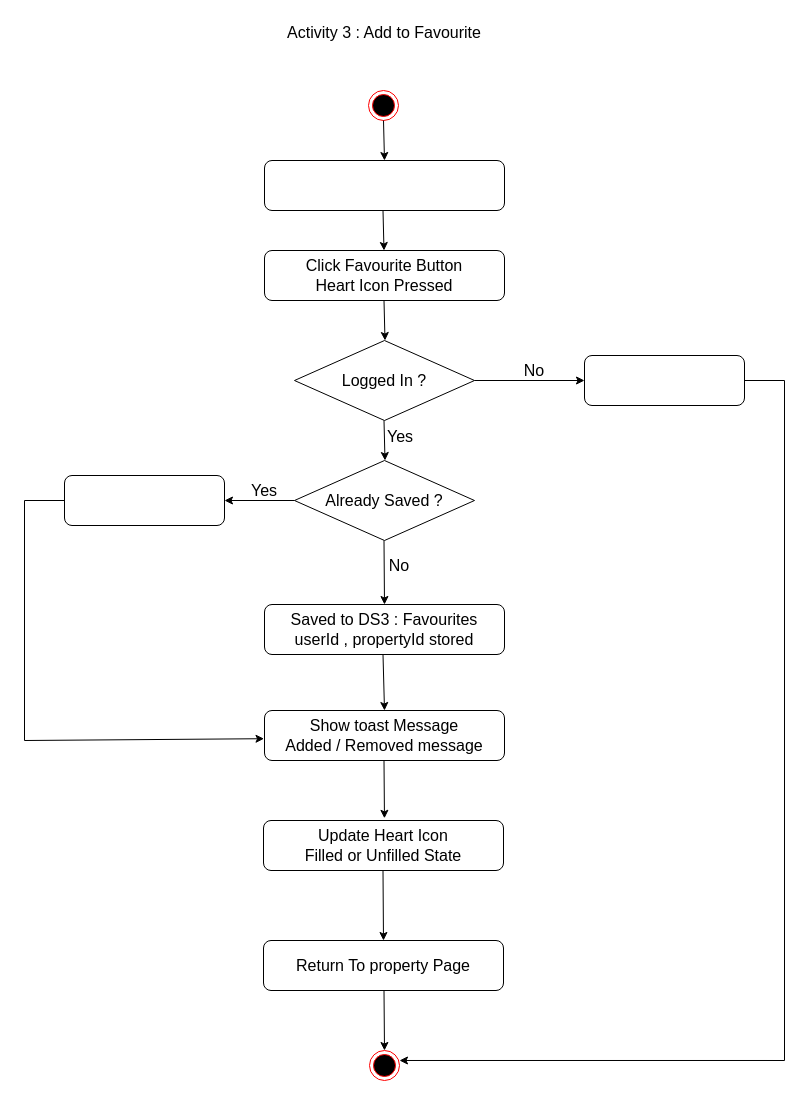
The diagram is 810 pixels wide and 1098 high, and some of its shapes have lost their labels. Here are the shapes that lost their labels. From the top down, the centre of each, then its label:
point 384,185: View Property Detaills Property Page loads
point 664,380: Redirect Login Page
point 144,500: Remove From DS3 : Favourites
